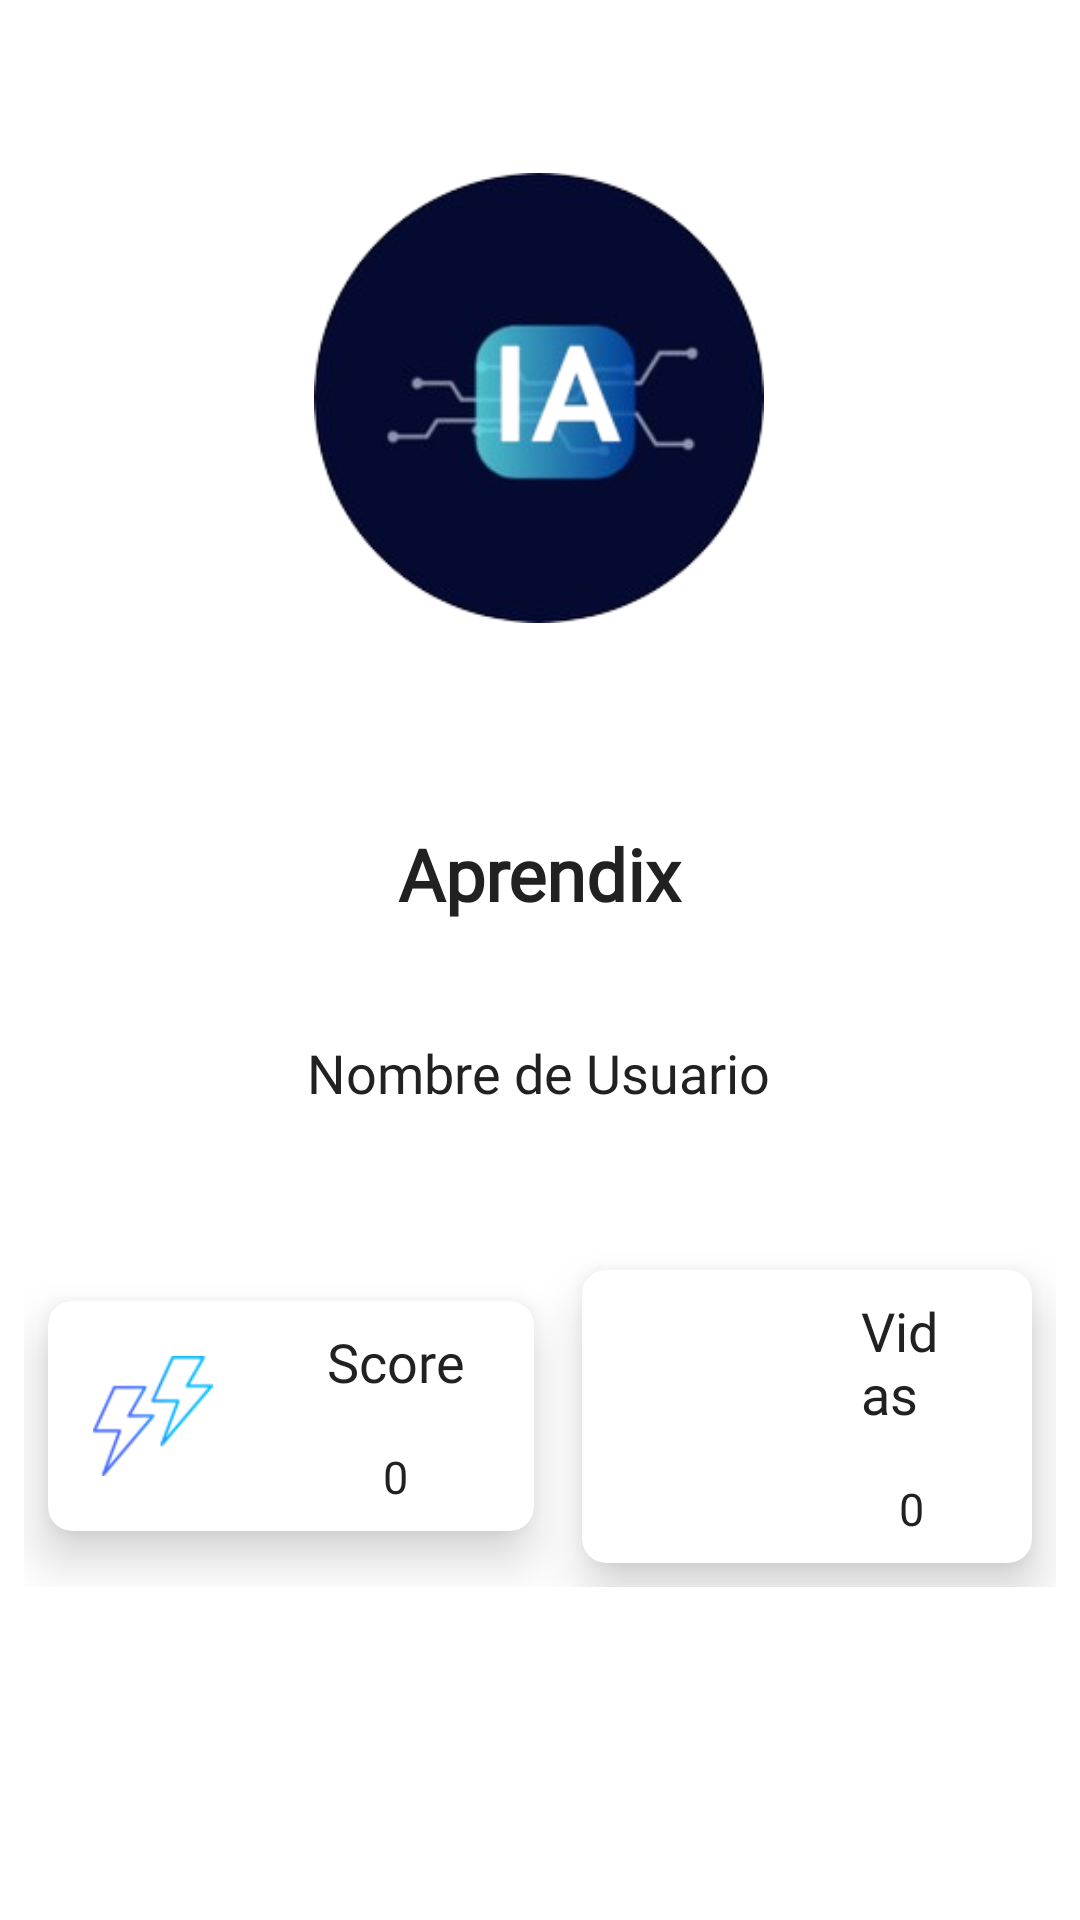

Screen size 1080x1920. Icon name, then its center in pixels as [x,y]:
relampagos: [153,1416]
